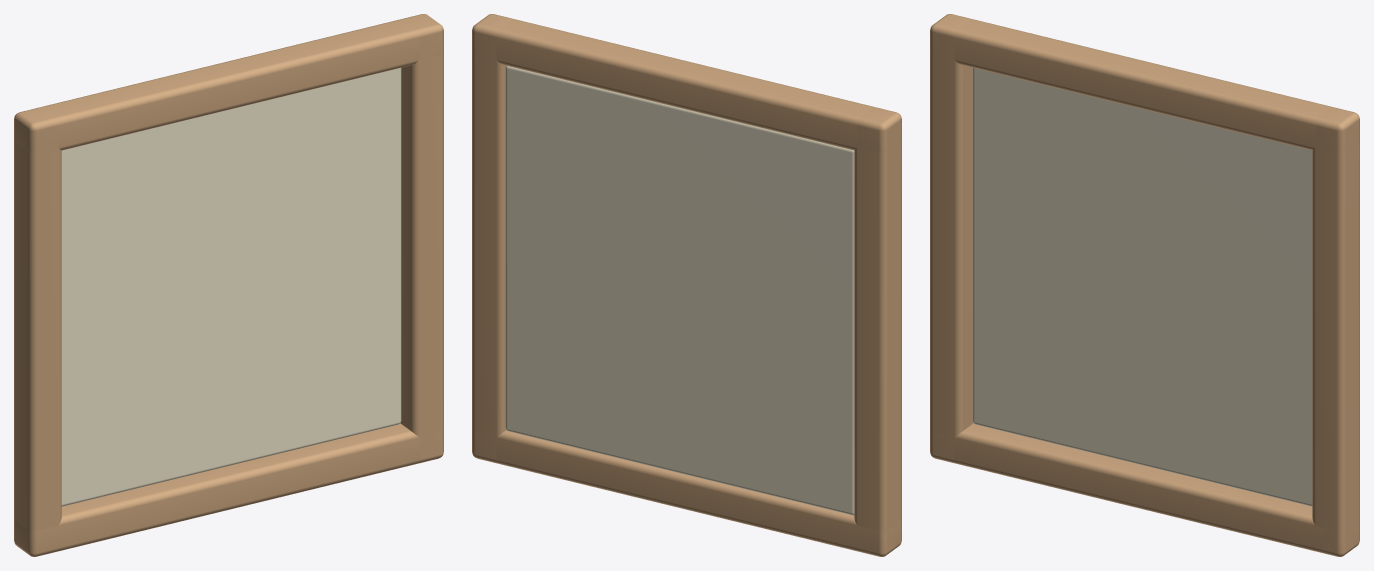
The model's file is natural-frame.glb.
3 renders of one model, left to right at view 1: azimuth 30°, elevation 25°; view 2: azimuth 150°, elevation 25°; view 3: azimuth 330°, elevation 25°, orthographic.
Visible parts, largest first — view 1: Side moulding.004; view 2: Side moulding.004; view 3: Side moulding.004.
Boxes of the visible parts, <box> form: Side moulding.004: <box>14,14,443,556</box>; Side moulding.004: <box>472,14,901,556</box>; Side moulding.004: <box>930,14,1359,556</box>.
Size of the model in its own units: 1.09 by 1.09 by 0.09.
